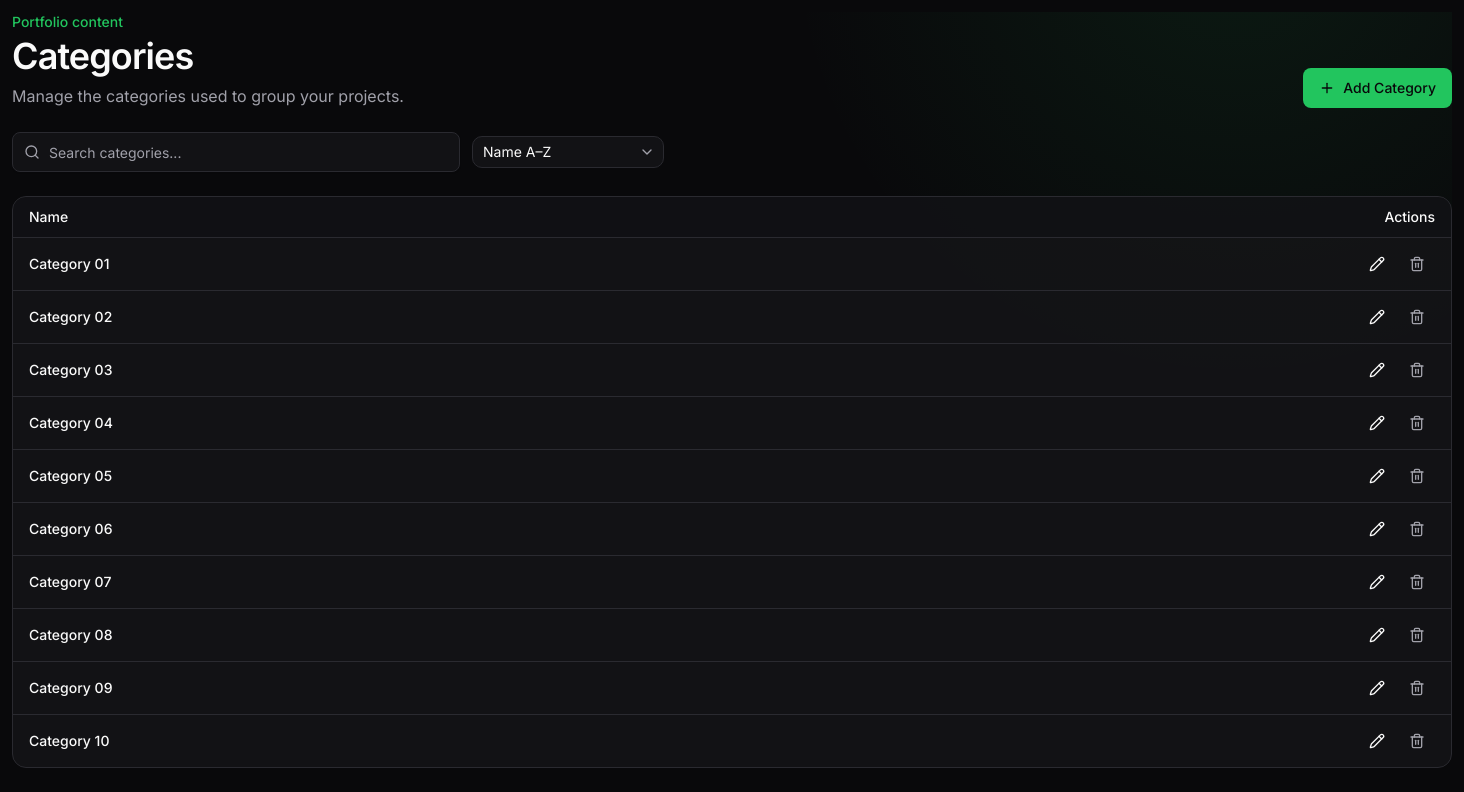
CategoryView › searches entries and writes ?q=
The image size is (1464, 792).
Type "Category 07" into the search field at [236, 152], box [12,132,460,172]
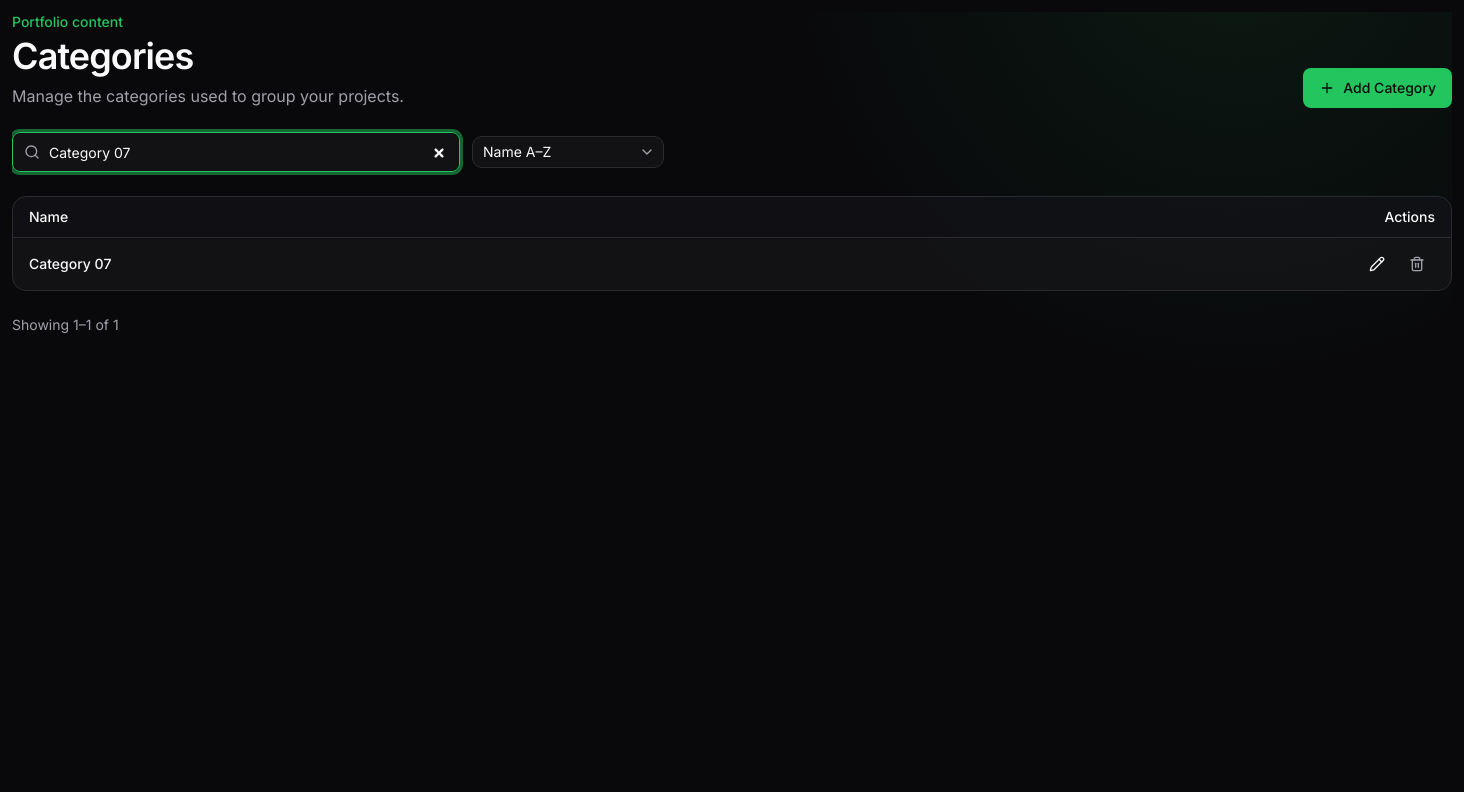
Now the text "Showing 1–1 of 1" is shown, box [12,314,119,334]
